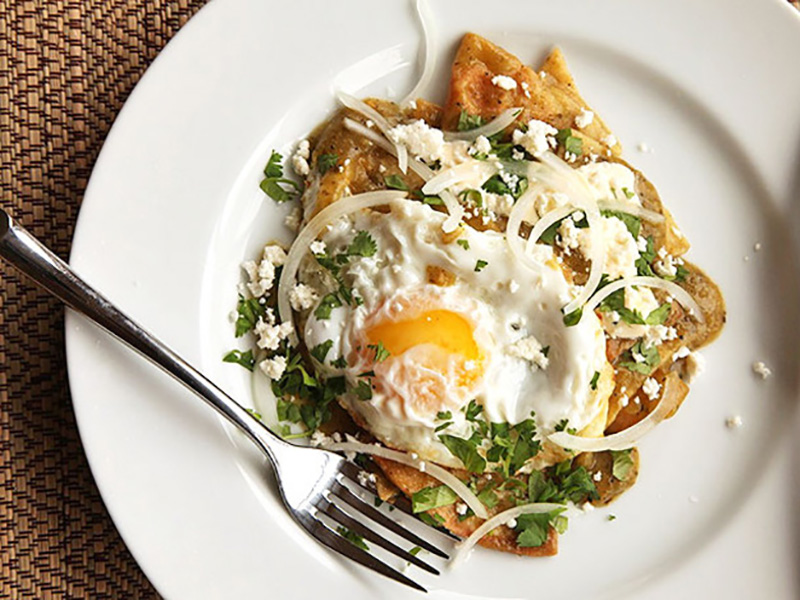fried egg: (335, 225, 569, 446)
